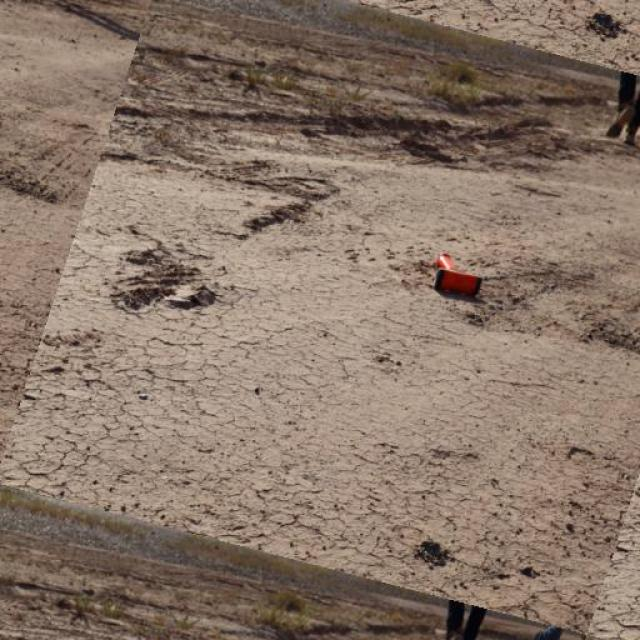mallet: (434, 250, 484, 298)
